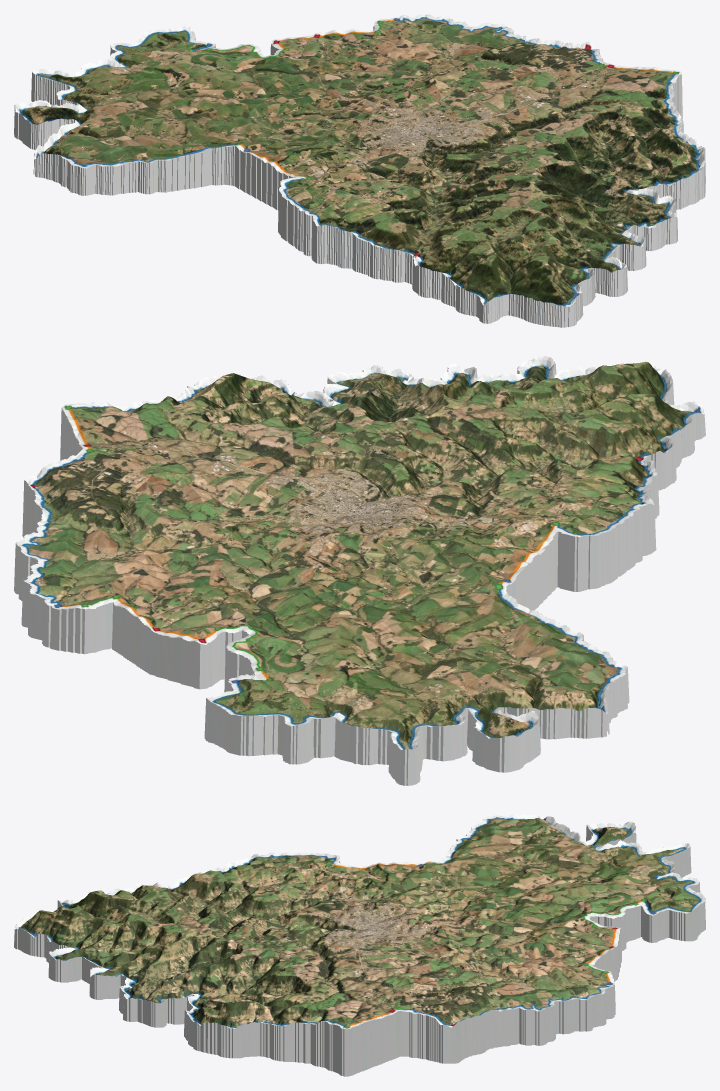
3 renders of one model, top to bottom at view 1: azimuth 30°, elevation 25°; view 2: azimuth 150°, elevation 25°; view 3: azimuth 270°, elevation 25°, orthographic. The views are drawn at different scales.
Size of the model in its own units: 0.9999 by 0.0918 by 1.21.
1 material, 1 textured.
